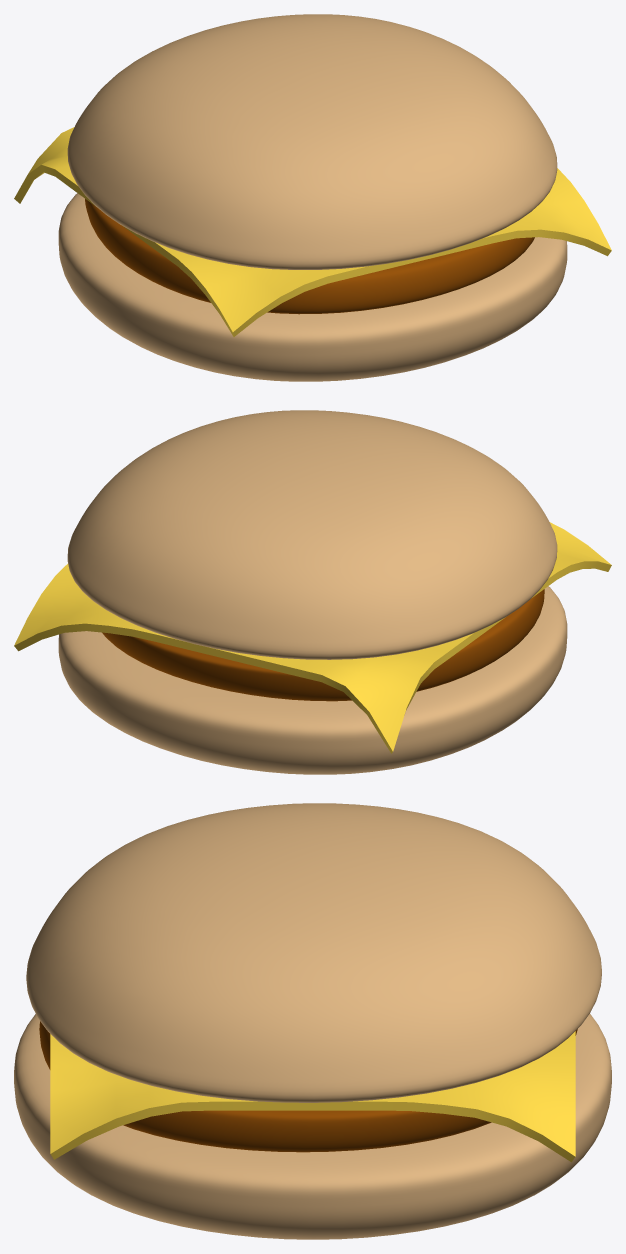
Rendered from hamburger.glb.
3 views of the same model, one above another, from view 1: azimuth 30°, elevation 25°; view 2: azimuth 150°, elevation 25°; view 3: azimuth 270°, elevation 25° (orthographic). The views are drawn at different scales.
Visible parts, largest first — view 1: Куб.002, Куб, Плоскость, Куб.001; view 2: Куб.002, Куб, Плоскость, Куб.001; view 3: Куб.002, Куб, Плоскость, Куб.001.
Boxes of the visible parts, x1,y1,x2,y2 form: Куб.002: (67, 14, 557, 269); Куб: (58, 193, 567, 381); Плоскость: (14, 127, 611, 336); Куб.001: (85, 199, 534, 314); Куб.002: (67, 410, 557, 659); Куб: (58, 586, 567, 774); Плоскость: (14, 522, 611, 753); Куб.001: (102, 589, 544, 701); Куб.002: (26, 803, 601, 1102); Куб: (14, 1014, 611, 1239); Плоскость: (50, 1031, 575, 1162); Куб.001: (39, 1021, 577, 1152).
Bounding box in the file's own units: 12.35 × 6.79 × 12.35.
